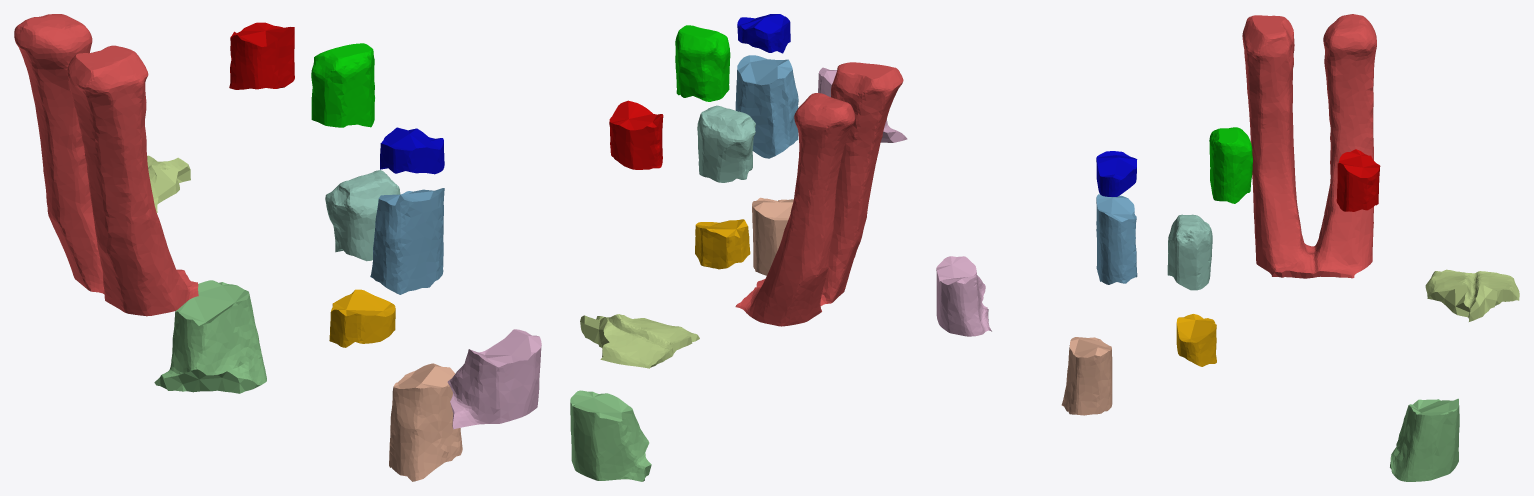
The model's file is fractured_15_11pcs_transformed.glb.
The picture shows the model from 3 angles, left to right: view 1: azimuth 30°, elevation 25°; view 2: azimuth 150°, elevation 25°; view 3: azimuth 270°, elevation 25°; orthographic projection. The views are drawn at different scales.
Parts seen in each view (by area): view 1: piece_1.obj, piece_3.obj, piece_6.obj, piece_2.obj, piece_7.obj, piece_8.obj, piece_9.obj, piece_4.obj, piece_0.obj, piece_10.obj, piece_5.obj; view 2: piece_1.obj, piece_3.obj, piece_2.obj, piece_5.obj, piece_4.obj, piece_8.obj, piece_9.obj, piece_0.obj, piece_7.obj, piece_10.obj, piece_6.obj; view 3: piece_1.obj, piece_3.obj, piece_6.obj, piece_7.obj, piece_2.obj, piece_5.obj, piece_8.obj, piece_4.obj, piece_9.obj, piece_0.obj, piece_10.obj.
Boxes of the visible parts, bbox=[...] form: piece_1.obj: bbox=[14, 14, 198, 316]; piece_3.obj: bbox=[154, 280, 266, 393]; piece_6.obj: bbox=[447, 329, 541, 429]; piece_2.obj: bbox=[370, 188, 444, 294]; piece_7.obj: bbox=[389, 363, 462, 481]; piece_8.obj: bbox=[311, 43, 374, 127]; piece_9.obj: bbox=[229, 22, 294, 89]; piece_4.obj: bbox=[325, 170, 400, 261]; piece_0.obj: bbox=[329, 289, 395, 347]; piece_10.obj: bbox=[380, 127, 444, 174]; piece_5.obj: bbox=[147, 155, 190, 212]; piece_1.obj: bbox=[735, 62, 903, 326]; piece_3.obj: bbox=[570, 390, 651, 481]; piece_2.obj: bbox=[735, 55, 798, 158]; piece_5.obj: bbox=[580, 314, 699, 368]; piece_4.obj: bbox=[697, 105, 755, 182]; piece_8.obj: bbox=[675, 25, 730, 101]; piece_9.obj: bbox=[609, 100, 663, 169]; piece_0.obj: bbox=[695, 219, 750, 269]; piece_7.obj: bbox=[752, 197, 793, 275]; piece_10.obj: bbox=[737, 14, 790, 53]; piece_6.obj: bbox=[818, 67, 907, 142]; piece_1.obj: bbox=[1242, 14, 1376, 278]; piece_3.obj: bbox=[1390, 398, 1459, 481]; piece_6.obj: bbox=[936, 256, 991, 336]; piece_7.obj: bbox=[1061, 337, 1112, 415]; piece_2.obj: bbox=[1096, 194, 1137, 284]; piece_5.obj: bbox=[1425, 269, 1519, 321]; piece_8.obj: bbox=[1209, 127, 1252, 203]; piece_4.obj: bbox=[1167, 214, 1212, 290]; piece_9.obj: bbox=[1336, 149, 1380, 211]; piece_0.obj: bbox=[1176, 314, 1216, 366]; piece_10.obj: bbox=[1096, 151, 1137, 196].
Bounding box in the file's own units: 0.9907 × 1.49 × 2.19.
